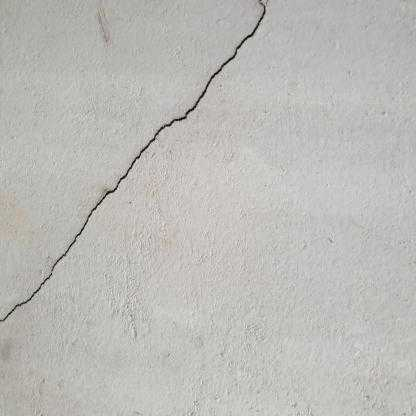crack: (0, 0, 266, 321)
